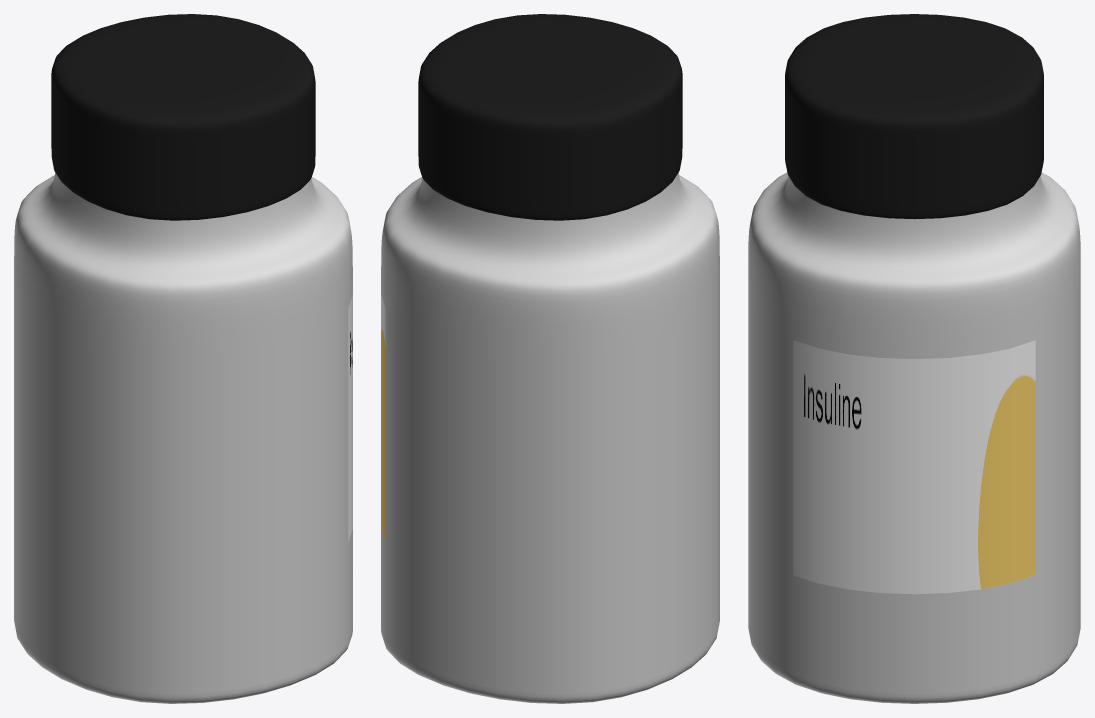
Rendered from Insuline.fbx.
The picture shows the model from 3 angles, left to right: view 1: azimuth 30°, elevation 25°; view 2: azimuth 150°, elevation 25°; view 3: azimuth 270°, elevation 25°; orthographic projection.
Parts seen in each view (by area): view 1: Bottle, Dop; view 2: Bottle, Dop; view 3: Bottle, Dop.
Part boxes in pixels (x1=…): Bottle: x1=14, y1=173, x2=352, y2=703; Dop: x1=51, y1=14, x2=315, y2=220; Bottle: x1=381, y1=173, x2=719, y2=703; Dop: x1=418, y1=14, x2=682, y2=220; Bottle: x1=748, y1=172, x2=1080, y2=703; Dop: x1=785, y1=14, x2=1043, y2=219.
Bounding box in the file's own units: 184 × 355 × 184.
3 materials, 1 textured.
